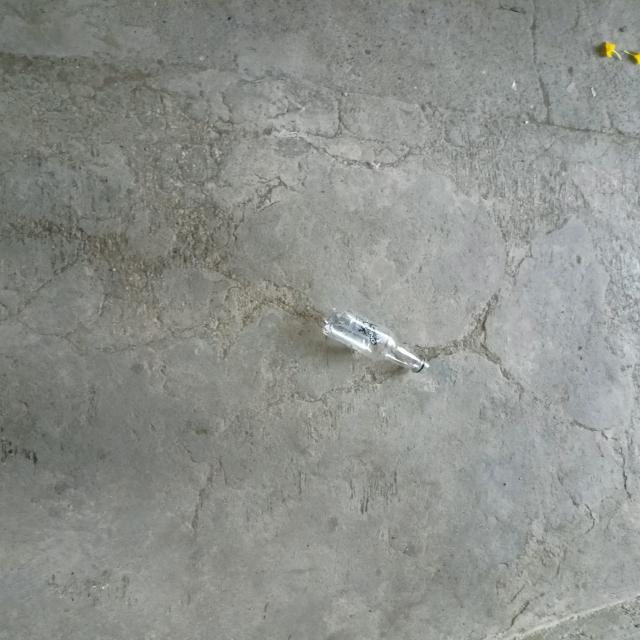Bottle: (323, 310, 429, 373)
